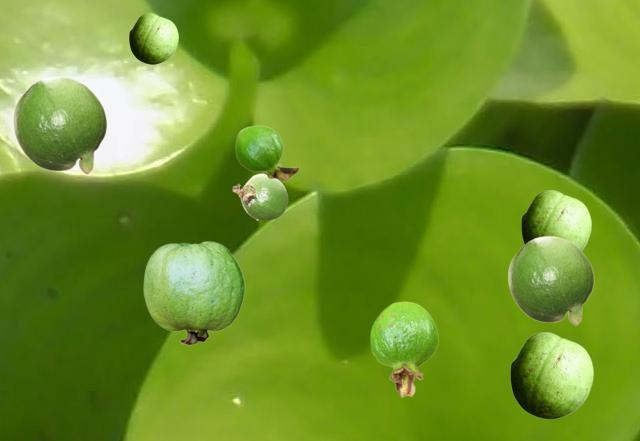guava: (143, 241, 244, 344), (12, 75, 106, 174), (507, 235, 593, 325), (510, 332, 592, 418), (370, 301, 437, 396), (521, 190, 590, 250), (235, 125, 298, 180), (232, 173, 287, 219), (129, 13, 177, 63)
